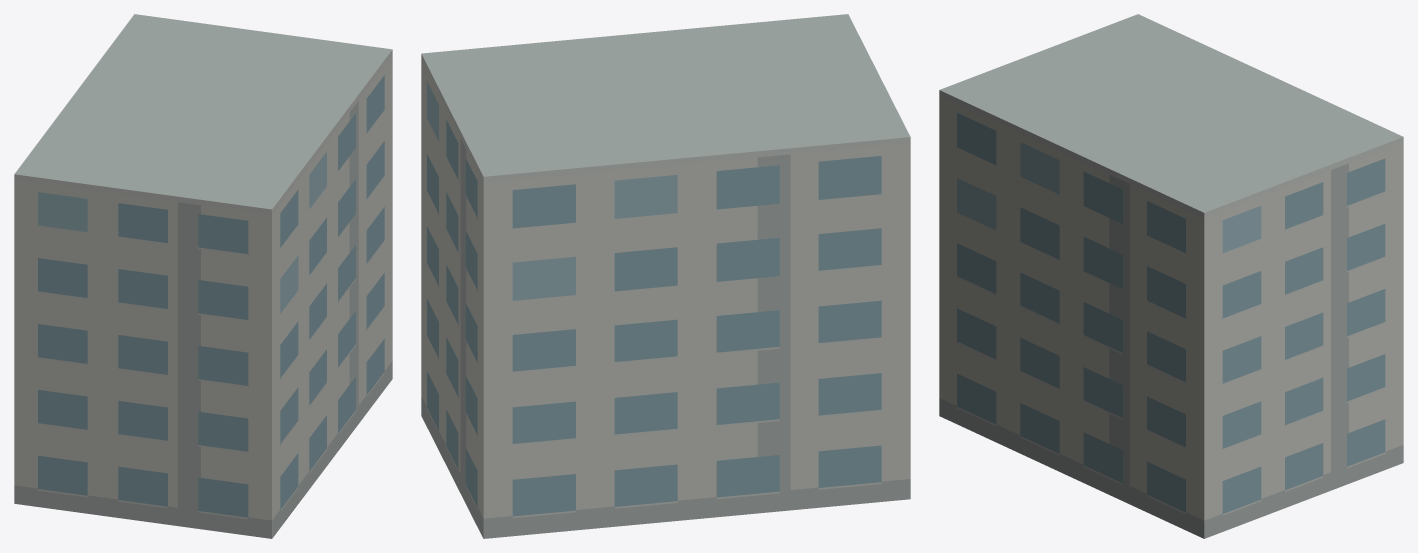
File: survey-upis-32840158.glb
3 renders of one model, left to right at view 1: azimuth 30°, elevation 25°; view 2: azimuth 150°, elevation 25°; view 3: azimuth 270°, elevation 25°, orthographic. The views are drawn at different scales.
Parts seen in each view (by area): view 1: survey-upis-32840158.tmp; view 2: survey-upis-32840158.tmp; view 3: survey-upis-32840158.tmp.
Boxes of the visible parts, box(x1,y1,x2,y2) form: survey-upis-32840158.tmp: box(14, 14, 392, 538); survey-upis-32840158.tmp: box(421, 14, 910, 538); survey-upis-32840158.tmp: box(939, 14, 1403, 538).
Size of the model in its own units: 18.58 by 14.2 by 18.34.
